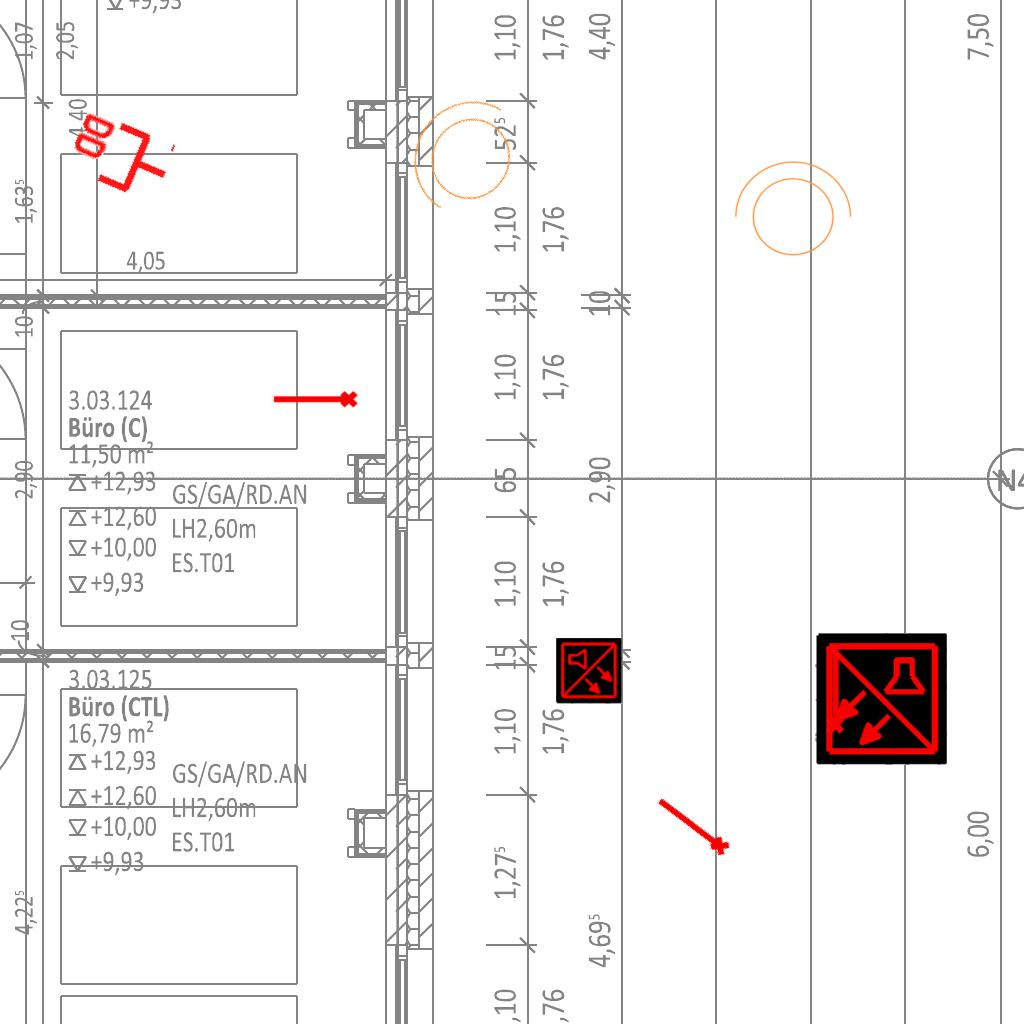ASR_Ansaugoeffnung: (649, 790, 735, 863), (271, 389, 359, 412), (823, 647, 846, 735)
Datenanschluss_zweifach: (58, 105, 181, 210)
OKW_Multisensormelder_(Kombination_optischer_Rauch-Kahlenmonoxid_Waerme-Melder): (815, 633, 947, 765), (556, 638, 622, 704)
Scheinwerfer_fuer_Alarmbeleuchtung: (382, 73, 548, 245), (724, 156, 856, 268)
